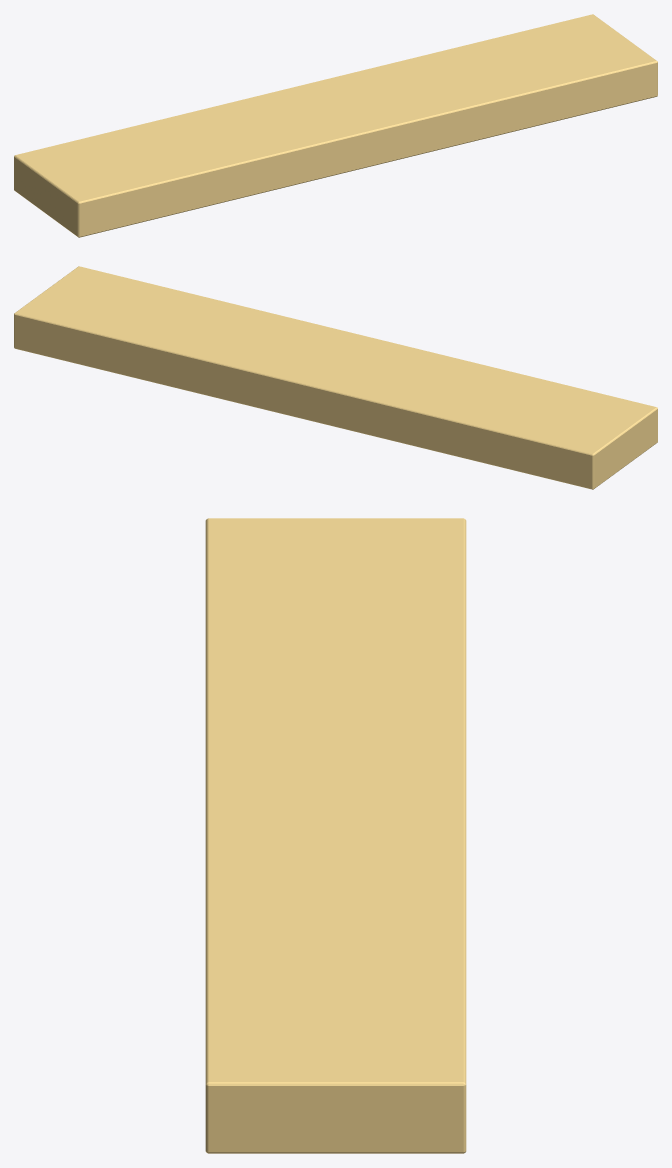
Rendered from head.glb.
The picture shows the model from 3 angles, top to bottom: view 1: azimuth 30°, elevation 25°; view 2: azimuth 150°, elevation 25°; view 3: azimuth 270°, elevation 25°; orthographic projection. The views are drawn at different scales.
Visible parts, largest first — view 1: head; view 2: head; view 3: head.
Boxes of the visible parts, x1=… form: head: x1=14, y1=14, x2=657, y2=237; head: x1=14, y1=266, x2=657, y2=489; head: x1=205, y1=518, x2=466, y2=1153.
Size of the model in its own units: 0.1636 by 0.0119 by 0.0319.
1 material, 1 textured.
